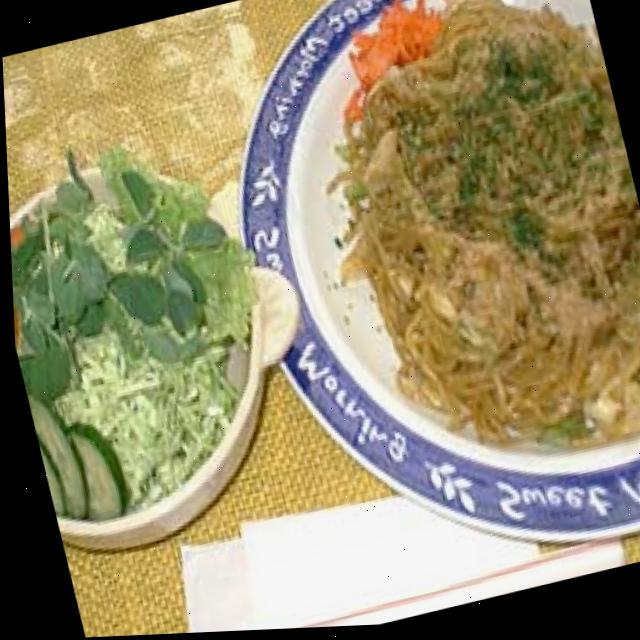面条主食: (294, 0, 640, 509)
